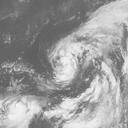cyclone: (51, 45, 79, 89)
